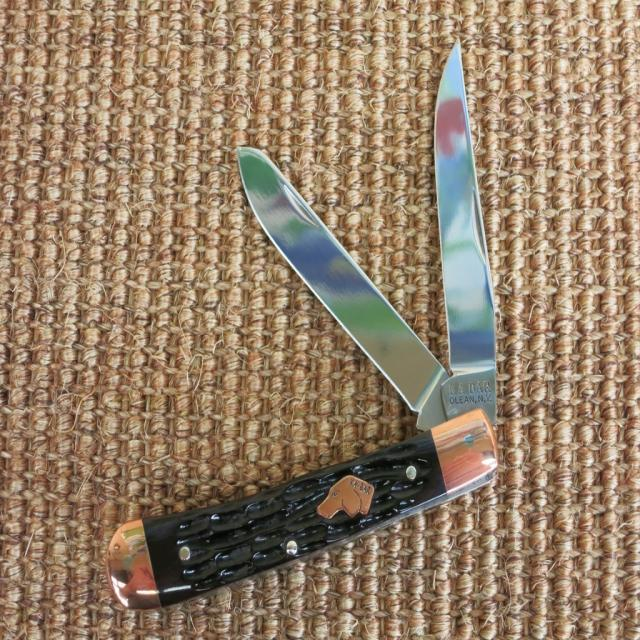Knife: (109, 44, 498, 608)
